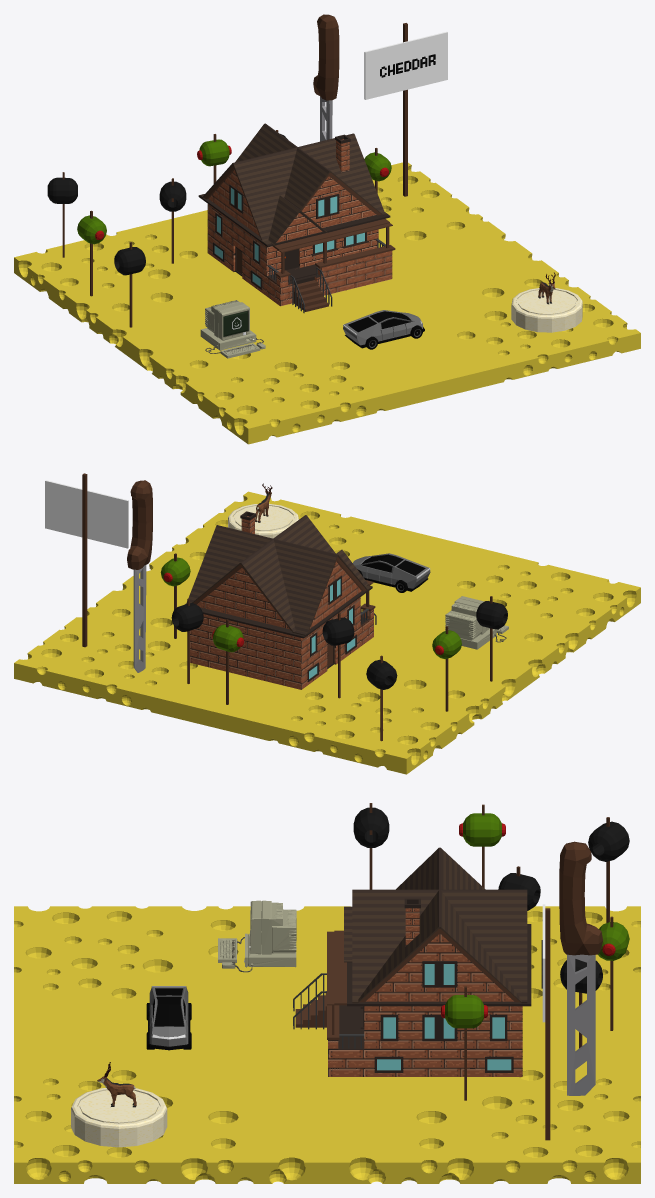
The picture shows the model from 3 angles, top to bottom: view 1: azimuth 30°, elevation 25°; view 2: azimuth 150°, elevation 25°; view 3: azimuth 270°, elevation 25°; orthographic projection. The views are drawn at different scales.
Parts seen in each view (by area): view 1: Cube.022, Cube.469, Cube.023, Cylinder.016, OBJRANDOM_RETRO_PC, Cube.024, VEHICLES_CYBERTRUCK, Sphere.017, Sphere.016, Sphere.020, Sphere.018, Sphere.022 (+1 smaller); view 2: Cube.022, Cube.469, Cube.023, Cube.024, VEHICLES_CYBERTRUCK, OBJRANDOM_RETRO_PC, Cylinder.016, Sphere.017, Sphere.020, Sphere.021, Sphere.016, Sphere.018 (+2 smaller); view 3: Cube.022, Cube.469, Cube.024, Cylinder.016, OBJRANDOM_RETRO_PC, VEHICLES_CYBERTRUCK, Cube.023, Sphere.019, Sphere.016, Sphere.018, Sphere.017, Sphere.022 (+3 smaller).
Part boxes in pixels (<box>): Cube.022: <box>14,162,640,444</box>; Cube.469: <box>198,123,395,313</box>; Cube.023: <box>364,23,447,196</box>; Cylinder.016: <box>511,288,582,332</box>; OBJRANDOM_RETRO_PC: <box>200,300,265,358</box>; Cube.024: <box>313,14,339,141</box>; VEHICLES_CYBERTRUCK: <box>343,310,424,349</box>; Sphere.017: <box>114,242,145,327</box>; Sphere.016: <box>47,172,77,257</box>; Sphere.020: <box>159,178,186,263</box>; Sphere.018: <box>77,210,106,296</box>; Sphere.022: <box>197,134,231,183</box>; Cube.022: <box>14,491,640,774</box>; Cube.469: <box>185,511,376,689</box>; Cube.023: <box>45,473,128,647</box>; Cube.024: <box>127,480,152,672</box>; VEHICLES_CYBERTRUCK: <box>353,553,430,592</box>; OBJRANDOM_RETRO_PC: <box>445,596,508,649</box>; Cylinder.016: <box>228,503,298,538</box>; Sphere.017: <box>476,596,507,681</box>; Sphere.020: <box>322,612,354,698</box>; Sphere.021: <box>171,598,203,683</box>; Sphere.016: <box>366,655,397,741</box>; Sphere.018: <box>432,626,461,711</box>; Cube.022: <box>14,906,640,1183</box>; Cube.469: <box>293,847,531,1076</box>; Cube.024: <box>559,841,602,1095</box>; Cylinder.016: <box>71,1088,167,1147</box>; OBJRANDOM_RETRO_PC: <box>218,900,296,972</box>; VEHICLES_CYBERTRUCK: <box>146,986,191,1050</box>; Cube.023: <box>541,904,550,1140</box>; Sphere.019: <box>441,986,487,1100</box>; Sphere.016: <box>588,817,629,922</box>; Sphere.018: <box>459,804,505,887</box>; Sphere.017: <box>353,803,389,889</box>; Sphere.022: <box>598,916,629,1030</box>.
Bounding box in the file's own units: 3917 × 2010 × 4000.
Materials: 32 (4 with a texture image).
